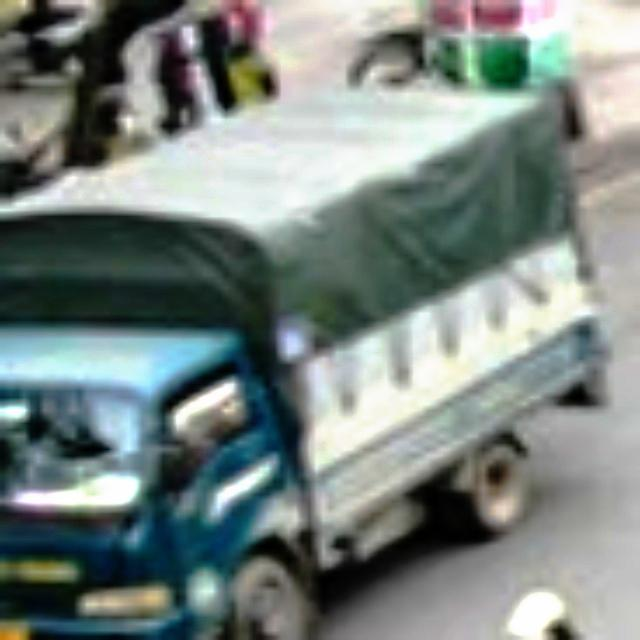Car: (0, 79, 609, 639)
